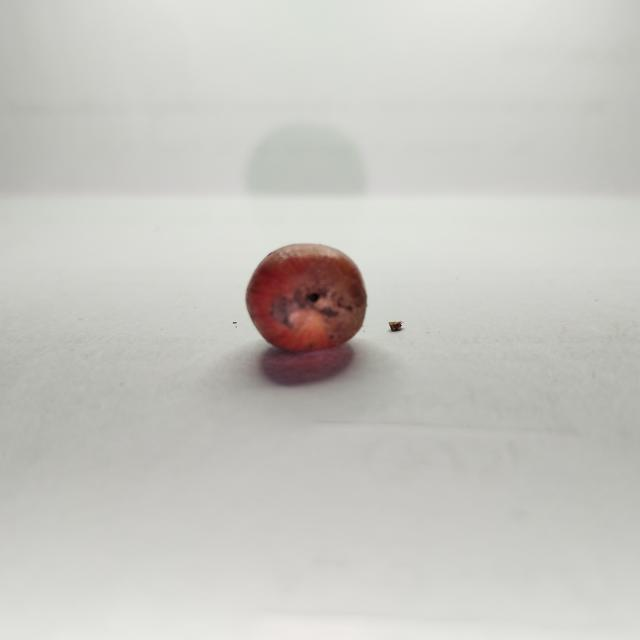Infectado: (244, 243, 369, 354)
